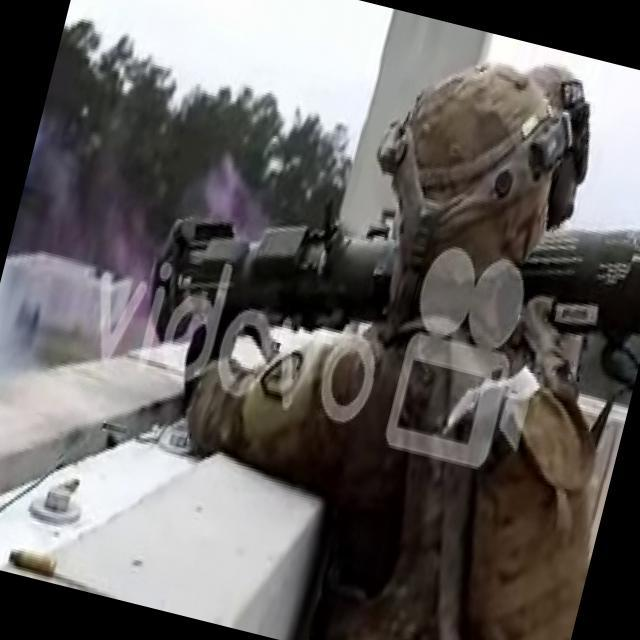rocket: (141, 122, 640, 453)
